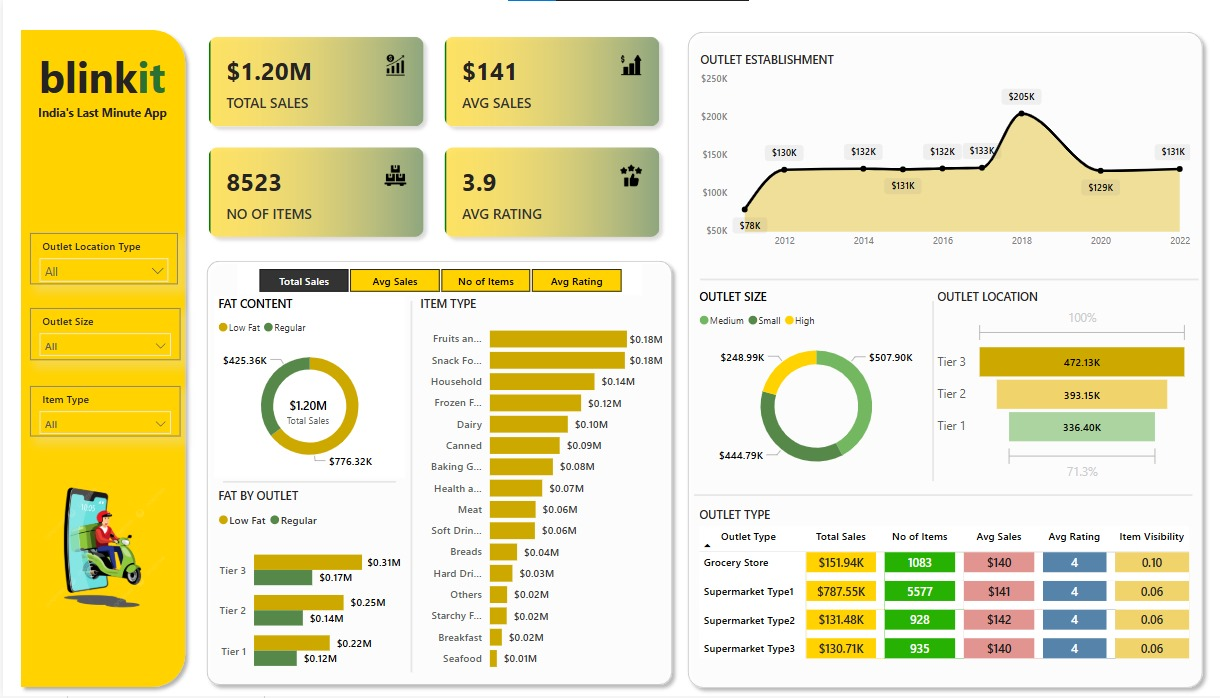

The dashboard page shown, as its layout file describes it:
{"tool":"powerbi","page":{"name":"Dashboard","canvas":[1400,800],"ordinal":0},"visuals":[{"type":"shape","box":[11.7,25.4,207.3,774.3],"z":0},{"type":"textbox","box":[9.8,48.9,207.3,95.8],"z":1000},{"type":"textbox","box":[31.3,115.4,166.2,29.3],"z":2000},{"type":"cardVisual","fields":{"Data":["BlinkIT Grocery Data.Total Sales","BlinkIT Grocery Data.Avg Sales","BlinkIT Grocery Data.No of Items","BlinkIT Grocery Data.Avg Rating"]},"box":[219,25.4,553.4,265.9],"z":3000},{"type":"shape","box":[225.2,291.3,552.8,505.5],"z":4000},{"type":"slicer","fields":{"Values":["Metrics.Metrics"]},"box":[268.6,302.9,465.7,37.1],"z":5000},{"type":"cardVisual","fields":{"Data":["BlinkIT Grocery Data.Total Sales"]},"box":[297.6,436.2,108.7,74],"z":6000},{"type":"clusteredBarChart","title":"FAT BY OUTLET","fields":{"Y":["BlinkIT Grocery Data.Total Sales"],"Category":["BlinkIT Grocery Data.Outlet Location Type"],"Series":["BlinkIT Grocery Data.Item Fat Content"]},"box":[242.9,561.4,220,230],"z":7000},{"type":"shape","box":[252.9,548.6,198.6,11.4],"z":8000},{"type":"shape","box":[463,346.5,12.6,426.8],"z":9000},{"type":"barChart","title":"ITEM TYPE","fields":{"Y":["BlinkIT Grocery Data.Total Sales"],"Category":["BlinkIT Grocery Data.Item Type"]},"box":[475.1,340.2,289.4,441.9],"z":10000},{"type":"shape","box":[778.2,27.4,610.1,772.3],"z":11000},{"type":"lineChart","title":"OUTLET ESTABLISHMENT","fields":{"Category":["BlinkIT Grocery Data.Outlet Establishment Year"],"Y":["BlinkIT Grocery Data.Total Sales"]},"box":[796.9,59.8,573.2,234.6],"z":12000},{"type":"shape","box":[801.6,315,573.2,12.6],"z":13000},{"type":"donutChart","title":"FAT CONTENT","fields":{"Y":["BlinkIT Grocery Data.Total Sales"],"Category":["BlinkIT Grocery Data.Item Fat Content"]},"box":[242.9,340,220,208.6],"z":14000},{"type":"cardVisual","fields":{"Data":["BlinkIT Grocery Data.Total Sales"]},"box":[296.1,436.2,108.7,74],"z":15000},{"type":"donutChart","title":"OUTLET SIZE","fields":{"Y":["BlinkIT Grocery Data.Total Sales"],"Category":["BlinkIT Grocery Data.Outlet Size"]},"box":[795.3,332.3,278.7,225.2],"z":16000},{"type":"shape","box":[1063.7,346.1,11.7,207.3],"z":17000},{"type":"funnel","title":"OUTLET LOCATION","fields":{"Category":["BlinkIT Grocery Data.Outlet Location Type"],"Y":["Sum(BlinkIT Grocery Data.Sales)"]},"box":[1069.3,332.3,299.2,225.2],"z":18000},{"type":"shape","box":[793.9,563.1,572.9,11.7],"z":19000},{"type":"pivotTable","title":"OUTLET TYPE","fields":{"Rows":["BlinkIT Grocery Data.Outlet Type"],"Values":["BlinkIT Grocery Data.Total Sales","BlinkIT Grocery Data.No of Items","BlinkIT Grocery Data.Avg Sales","BlinkIT Grocery Data.Avg Rating","Avg(BlinkIT Grocery Data.Item Visibility)"]},"box":[795.8,582.7,572.9,199.4],"z":20000},{"type":"slicer","fields":{"Values":["BlinkIT Grocery Data.Outlet Location Type"]},"box":[31.3,267.9,170.1,58.7],"z":21000},{"type":"slicer","fields":{"Values":["BlinkIT Grocery Data.Outlet Size"]},"box":[31.5,354.3,173.2,59.8],"z":22000},{"type":"slicer","fields":{"Values":["BlinkIT Grocery Data.Item Type"]},"box":[31.5,444.1,173.2,58.3],"z":23000},{"type":"image","box":[37.8,559.1,166.9,168.5],"z":25000}]}

Visuals, with their boxes in screenshot pixels (x1, y1, x2, y2), scaled from the page's 1400x800 canvas onto the 1220x698 screenshot:
shape: box=[10, 22, 191, 697]
textbox: box=[9, 43, 189, 126]
textbox: box=[27, 101, 172, 126]
cardVisual - BlinkIT Grocery Data.Total Sales x BlinkIT Grocery Data.Avg Sales: box=[191, 22, 673, 254]
shape: box=[196, 254, 678, 695]
slicer - Metrics.Metrics: box=[234, 264, 640, 297]
cardVisual - BlinkIT Grocery Data.Total Sales: box=[259, 381, 354, 445]
"FAT BY OUTLET" clusteredBarChart: box=[212, 490, 403, 690]
shape: box=[220, 479, 393, 489]
shape: box=[403, 302, 414, 675]
"ITEM TYPE" barChart: box=[414, 297, 666, 682]
shape: box=[678, 24, 1210, 697]
"OUTLET ESTABLISHMENT" lineChart: box=[694, 52, 1194, 257]
shape: box=[699, 275, 1198, 286]
"FAT CONTENT" donutChart: box=[212, 297, 403, 479]
cardVisual - BlinkIT Grocery Data.Total Sales: box=[258, 381, 353, 445]
"OUTLET SIZE" donutChart: box=[693, 290, 936, 486]
shape: box=[927, 302, 937, 483]
"OUTLET LOCATION" funnel: box=[932, 290, 1193, 486]
shape: box=[692, 491, 1191, 502]
"OUTLET TYPE" pivotTable: box=[693, 508, 1193, 682]
slicer - BlinkIT Grocery Data.Outlet Location Type: box=[27, 234, 176, 285]
slicer - BlinkIT Grocery Data.Outlet Size: box=[27, 309, 178, 361]
slicer - BlinkIT Grocery Data.Item Type: box=[27, 387, 178, 438]
image: box=[33, 488, 178, 635]
